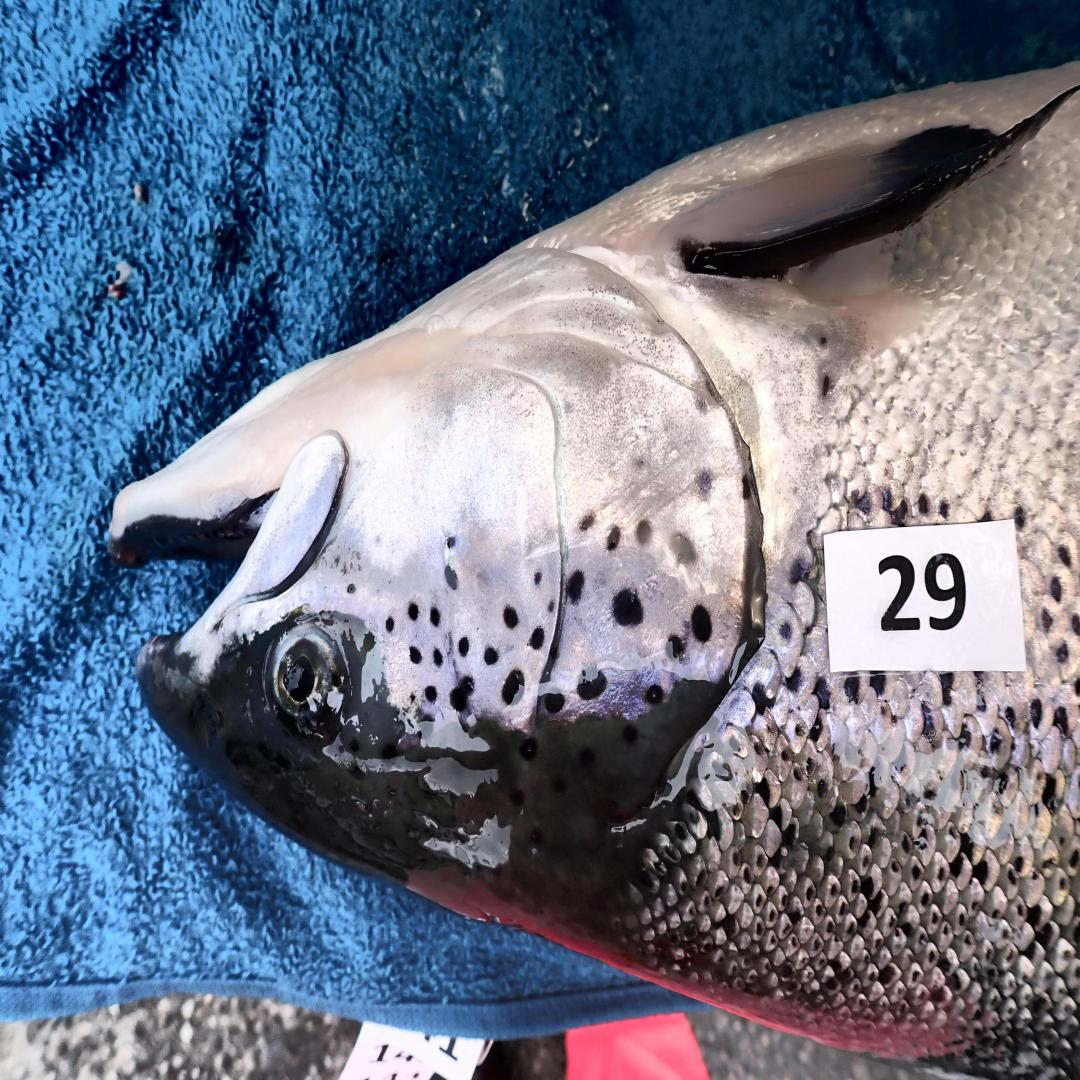spot: (612, 588, 643, 627), (578, 667, 608, 700), (449, 675, 475, 712), (669, 532, 696, 565), (502, 669, 525, 706), (690, 605, 713, 641), (692, 467, 715, 501), (565, 571, 584, 605), (666, 634, 686, 660), (635, 520, 652, 546), (543, 693, 565, 713), (645, 683, 664, 706), (502, 605, 519, 630), (418, 712, 434, 738), (546, 596, 561, 622), (605, 526, 620, 551), (529, 627, 544, 650), (578, 512, 595, 532), (445, 565, 458, 591), (483, 647, 498, 667), (407, 602, 420, 622), (742, 473, 751, 500), (409, 647, 422, 664), (424, 686, 437, 703), (432, 647, 443, 667), (430, 608, 441, 627), (458, 636, 468, 655), (386, 616, 394, 633), (534, 571, 542, 585), (446, 537, 455, 548), (347, 584, 356, 593), (409, 692, 416, 703)
